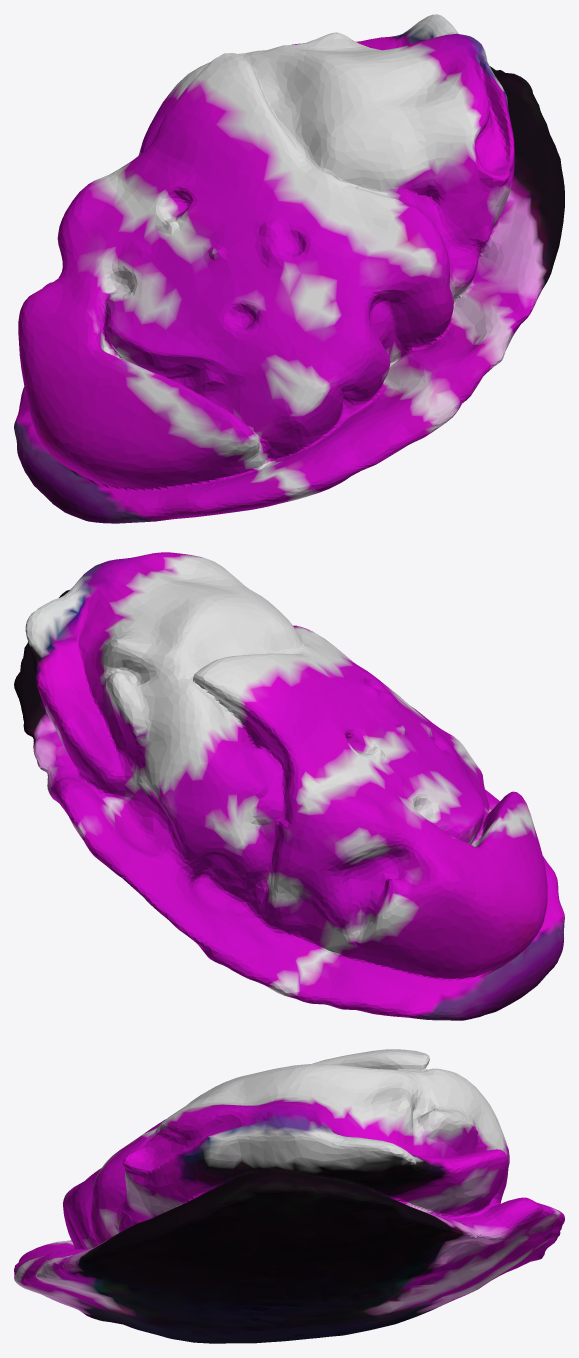
The model's file is pretty_amethyst.glb.
The picture shows the model from 3 angles, top to bottom: view 1: azimuth 30°, elevation 25°; view 2: azimuth 150°, elevation 25°; view 3: azimuth 270°, elevation 25°; orthographic projection. The views are drawn at different scales.
Visible parts, largest first — view 1: geometry_0; view 2: geometry_0; view 3: geometry_0.
Boxes of the visible parts, x1,y1,x2,y2 form: geometry_0: (14, 14, 564, 523); geometry_0: (14, 552, 564, 1020); geometry_0: (14, 1049, 564, 1343).
Size of the model in its own units: 0.5938 by 0.4273 by 0.5939.
